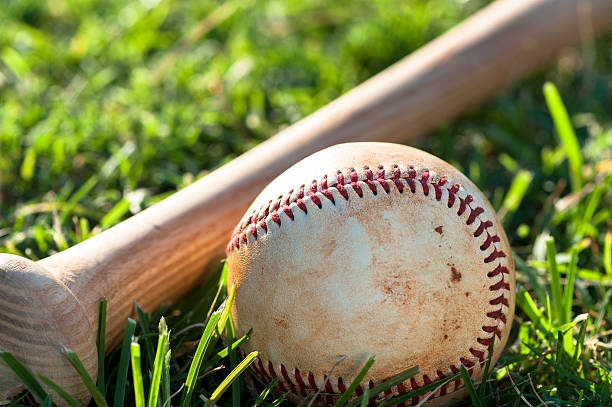bita: (1, 4, 595, 388)
